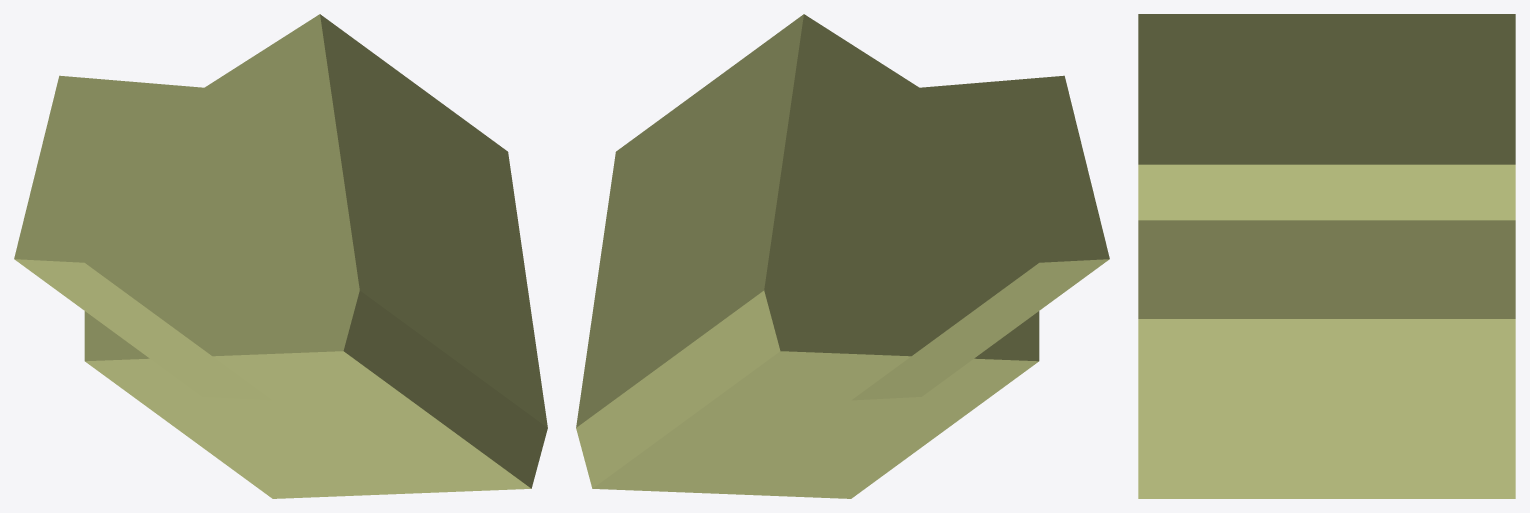
The picture shows the model from 3 angles, left to right: view 1: azimuth 30°, elevation 25°; view 2: azimuth 150°, elevation 25°; view 3: azimuth 270°, elevation 25°; orthographic projection.
Parts seen in each view (by area): view 1: 0_3_0_1_1_1_0_1_3_0; view 2: 0_3_0_1_1_1_0_1_3_0; view 3: 0_3_0_1_1_1_0_1_3_0.
Part boxes in pixels (<box>): 0_3_0_1_1_1_0_1_3_0: <box>14,14,547,498</box>; 0_3_0_1_1_1_0_1_3_0: <box>576,14,1109,498</box>; 0_3_0_1_1_1_0_1_3_0: <box>1138,14,1515,498</box>.
Size of the model in its own units: 9.55 by 9.1 by 9.
